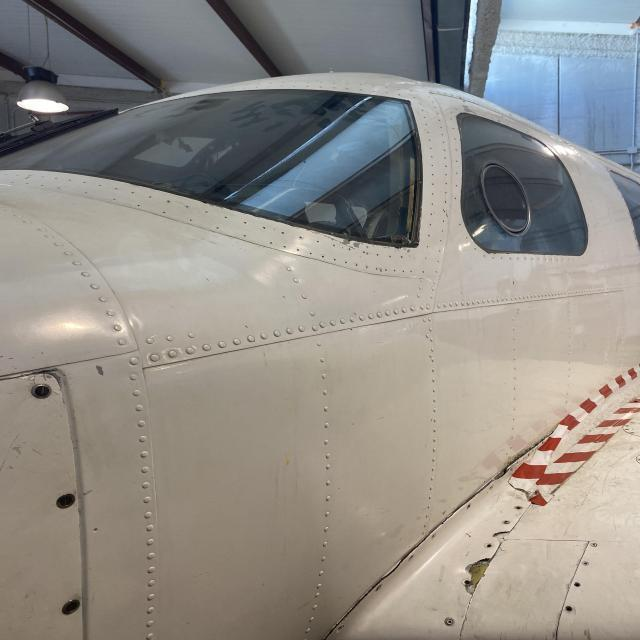Fastener Damage: (564, 604, 576, 613), (512, 504, 524, 512), (572, 581, 584, 588), (485, 540, 492, 549), (407, 554, 415, 560), (465, 504, 471, 511)
Rupture: (310, 560, 404, 640), (477, 437, 555, 482), (464, 552, 494, 598)
